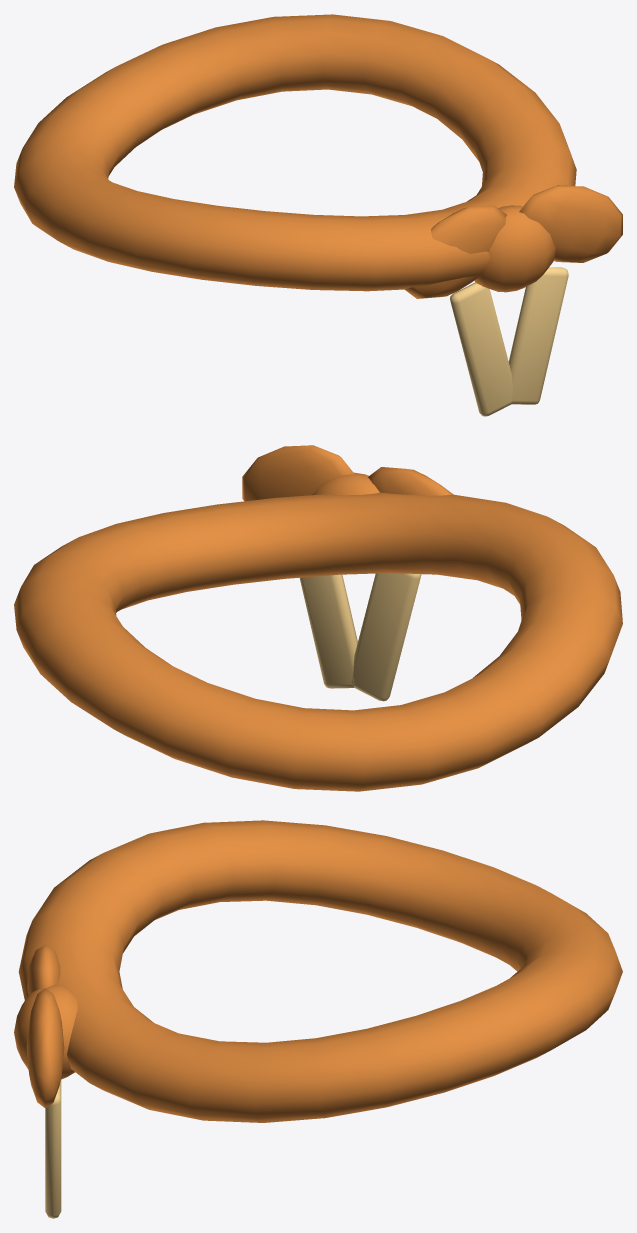
Rendered from event-scarf.glb.
3 views of the same model, one above another, from view 1: azimuth 30°, elevation 25°; view 2: azimuth 150°, elevation 25°; view 3: azimuth 270°, elevation 25° (orthographic). The views are drawn at different scales.
Parts seen in each view (by area): view 1: wrap; view 2: wrap; view 3: wrap.
Boxes of the visible parts, x1=… form: wrap: x1=14, y1=14, x2=622, y2=416; wrap: x1=14, y1=445, x2=622, y2=791; wrap: x1=14, y1=820, x2=622, y2=1218.
Size of the model in its own units: 0.384 by 0.1667 by 0.387.
